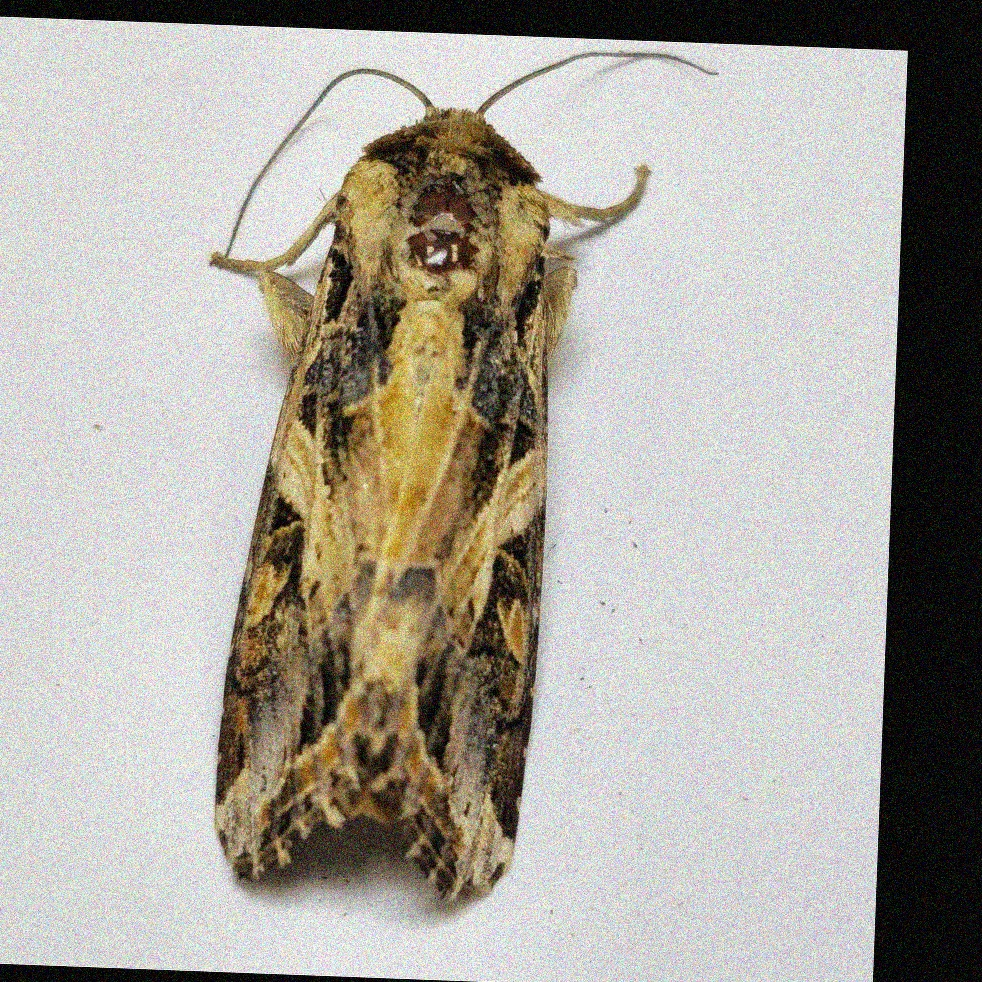Spodoptera litura: (200, 41, 703, 905)
